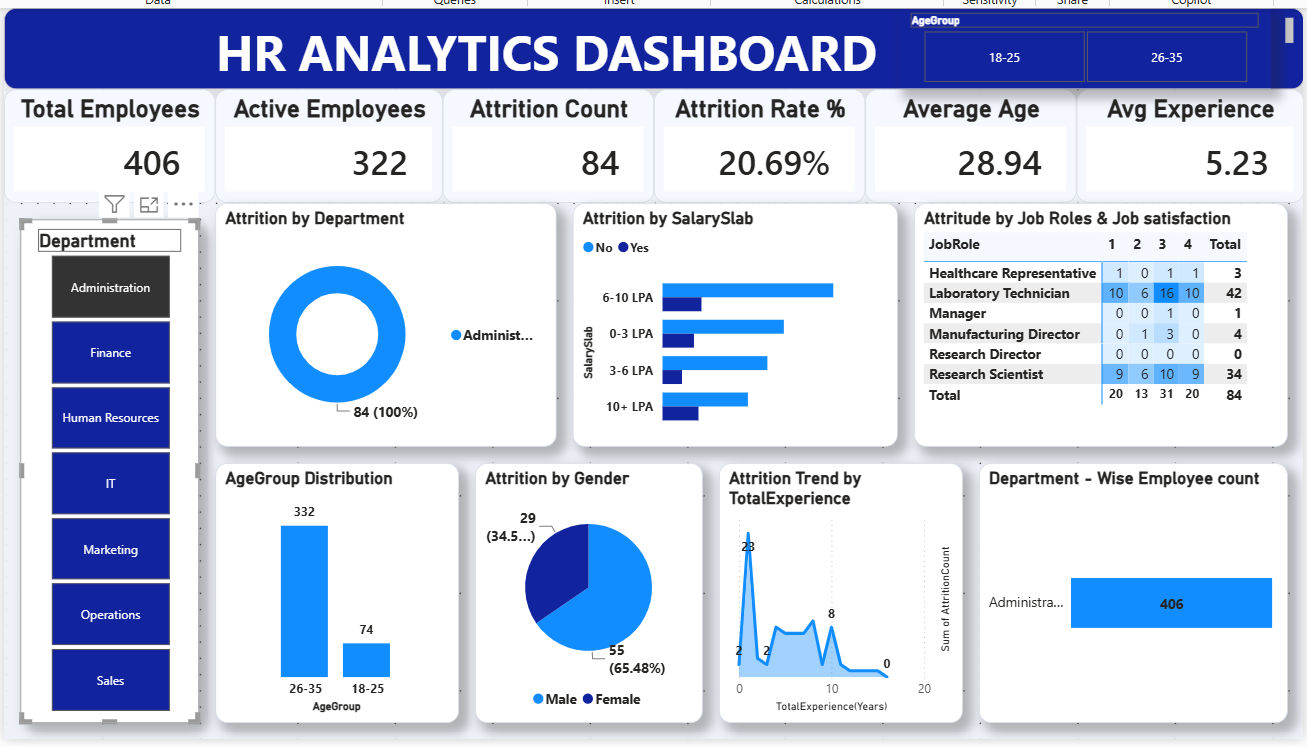

This screenshot's page, from the dashboard's own definition file:
{"tool":"powerbi","page":{"name":"Page 1","canvas":[1280,720],"ordinal":0},"visuals":[{"type":"textbox","box":[0,0,1280,80],"z":0},{"type":"cardVisual","title":"Total Employees","fields":{"Data":["CountNonNull(HR_Analytics-4.EmpID)"]},"box":[0,80,208,112],"z":1000},{"type":"cardVisual","title":"Active Employees","fields":{"Data":["CountNonNull(HR_Analytics-4.EmployeeCount)"]},"box":[208,80,224,112],"z":2000},{"type":"cardVisual","title":"Attrition Count","fields":{"Data":["Sum(HR_Analytics-4.AttritionCount)"]},"box":[432,80,208,112],"z":3000},{"type":"cardVisual","title":"Attrition Rate %","fields":{"Data":["HR_Analytics-4.Attrition Rate %"]},"box":[640,80,208,112],"z":4000},{"type":"cardVisual","title":"Average Age","fields":{"Data":["Avg(HR_Analytics-4.Age)"]},"box":[848,80,208,112],"z":5000},{"type":"cardVisual","title":"Avg Experience","fields":{"Data":["Avg(HR_Analytics-4.YearsatCompany)"]},"box":[1056,80,224,112],"z":6000},{"type":"donutChart","title":"Attrition by Department","fields":{"Category":["HR_Analytics-4.Department"],"Y":["Sum(HR_Analytics-4.AttritionCount)"]},"box":[208,192,336,240],"z":7000},{"type":"clusteredBarChart","title":"Attrition by SalarySlab","fields":{"Category":["HR_Analytics-4.SalarySlab"],"Y":["CountNonNull(HR_Analytics-4.EmpID)"],"Series":["HR_Analytics-4.Attrition"]},"box":[560,192,320,240],"z":8000},{"type":"pivotTable","title":"Attritude by Job Roles & Job satisfaction","fields":{"Rows":["HR_Analytics-4.JobRole"],"Values":["Sum(HR_Analytics-4.AttritionCount)"],"Columns":["HR_Analytics-4.JobSatisfaction"]},"box":[896,192,368,240],"z":9000},{"type":"columnChart","title":"AgeGroup Distribution","fields":{"Category":["HR_Analytics-4.AgeGroup"],"Y":["Sum(HR_Analytics-4.EmployeeCount)"]},"box":[208,448,240,256],"z":10000},{"type":"pieChart","title":" Attrition by Gender","fields":{"Category":["HR_Analytics-4.Gender"],"Y":["Sum(HR_Analytics-4.AttritionCount)"]},"box":[464,448,224,256],"z":11000},{"type":"areaChart","title":"Attrition Trend by TotalExperience","fields":{"Category":["HR_Analytics-4.TotalExperience(Years)"],"Y2":["Sum(HR_Analytics-4.AttritionCount)"]},"box":[704,448,240,256],"z":12000},{"type":"funnel","title":"Department - Wise Employee count","fields":{"Category":["HR_Analytics-4.Department"],"Y":["CountNonNull(HR_Analytics-4.EmpID)"]},"box":[960,448,304,256],"z":13000},{"type":"slicer","fields":{"Values":["HR_Analytics-4.Department"]},"box":[16,208,176,496],"z":14000},{"type":"slicer","fields":{"Values":["HR_Analytics-4.AgeGroup"]},"box":[880,0,368,80],"z":14001}]}

Visuals, with their boxes on the page's 1280x720 design canvas (x1, y1, x2, y2). These are canvas units, not pixel positions in the 1307x747 screenshot, which may show the page scaled, cropped or inside an application window:
textbox: x1=0, y1=0, x2=1280, y2=80
"Total Employees" cardVisual: x1=0, y1=80, x2=208, y2=192
"Active Employees" cardVisual: x1=208, y1=80, x2=432, y2=192
"Attrition Count" cardVisual: x1=432, y1=80, x2=640, y2=192
"Attrition Rate %" cardVisual: x1=640, y1=80, x2=848, y2=192
"Average Age" cardVisual: x1=848, y1=80, x2=1056, y2=192
"Avg Experience" cardVisual: x1=1056, y1=80, x2=1280, y2=192
"Attrition by Department" donutChart: x1=208, y1=192, x2=544, y2=432
"Attrition by SalarySlab" clusteredBarChart: x1=560, y1=192, x2=880, y2=432
"Attritude by Job Roles & Job satisfaction" pivotTable: x1=896, y1=192, x2=1264, y2=432
"AgeGroup Distribution" columnChart: x1=208, y1=448, x2=448, y2=704
" Attrition by Gender" pieChart: x1=464, y1=448, x2=688, y2=704
"Attrition Trend by TotalExperience" areaChart: x1=704, y1=448, x2=944, y2=704
"Department - Wise Employee count" funnel: x1=960, y1=448, x2=1264, y2=704
slicer - HR_Analytics-4.Department: x1=16, y1=208, x2=192, y2=704
slicer - HR_Analytics-4.AgeGroup: x1=880, y1=0, x2=1248, y2=80
